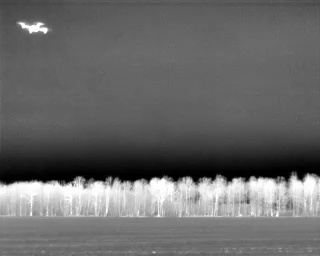DRONE: (14, 16, 54, 40)
